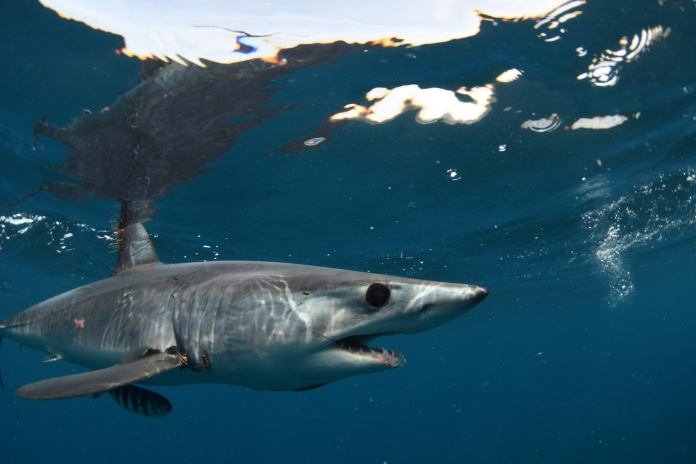Mako: (1, 214, 511, 420)
